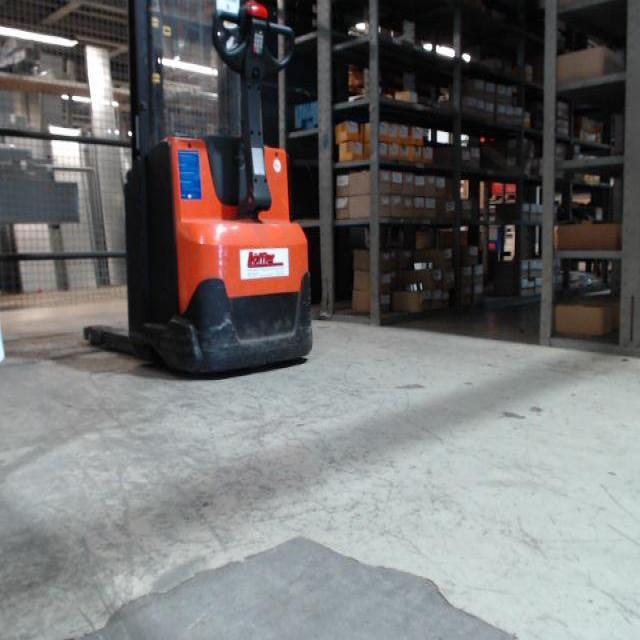pallet_truck: (84, 3, 319, 382)
small_load_carrier: (295, 102, 321, 134)
